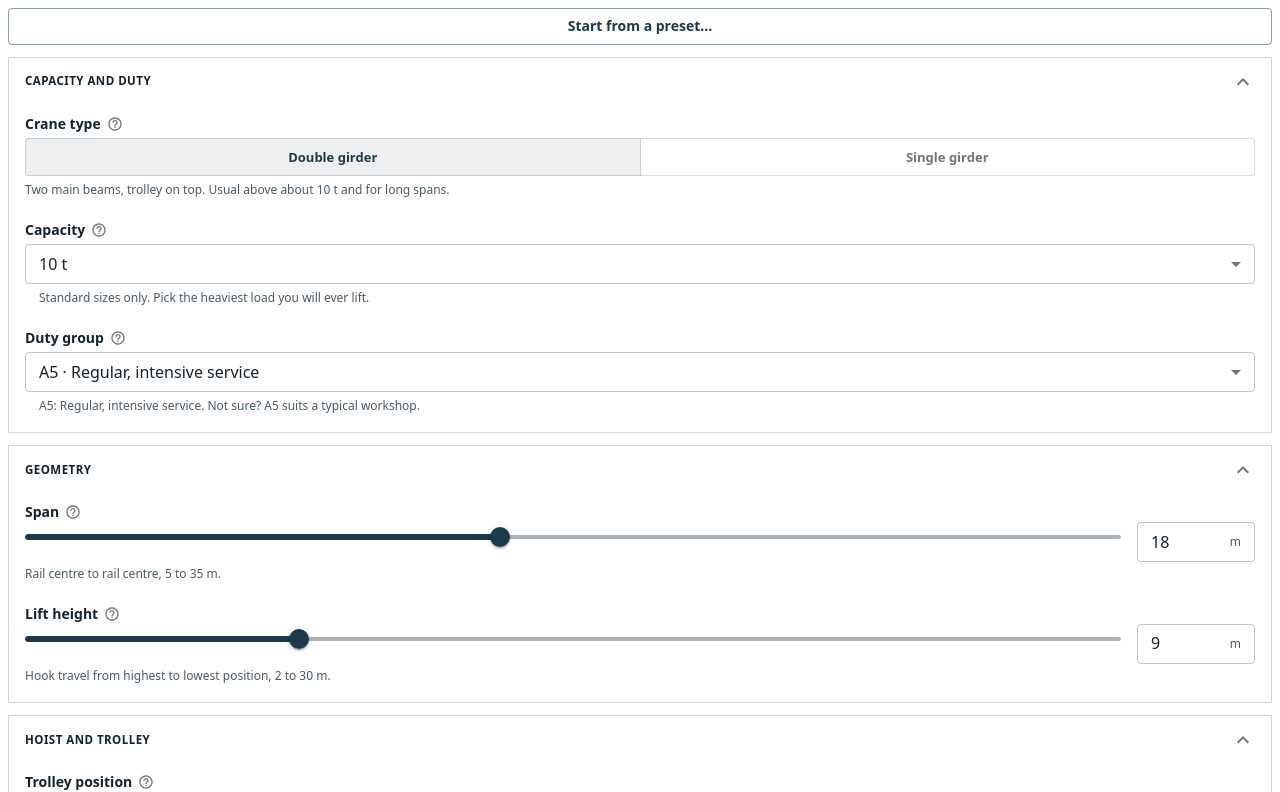
it: InputsPanel validation display › returns to the normal helper text once the value is valid again
Replace the text in the field labelled "Span" with "99": coordinates (1183, 542) [1137,522,1230,562]
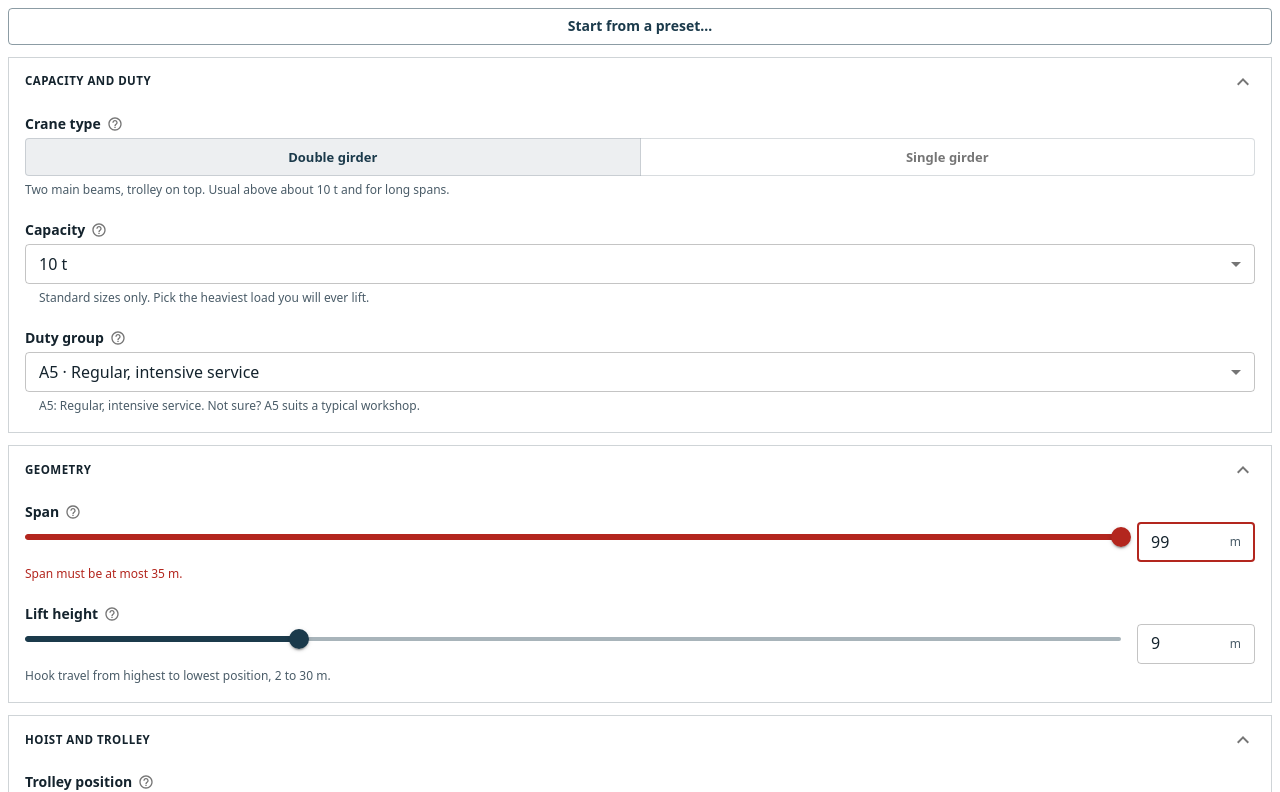
Check: the text "Span must be at most 35 m." is shown, box [25,565,182,582]
Replace the text in the field labelled "Span" with "24": coordinates (1183, 542) [1137,522,1230,562]
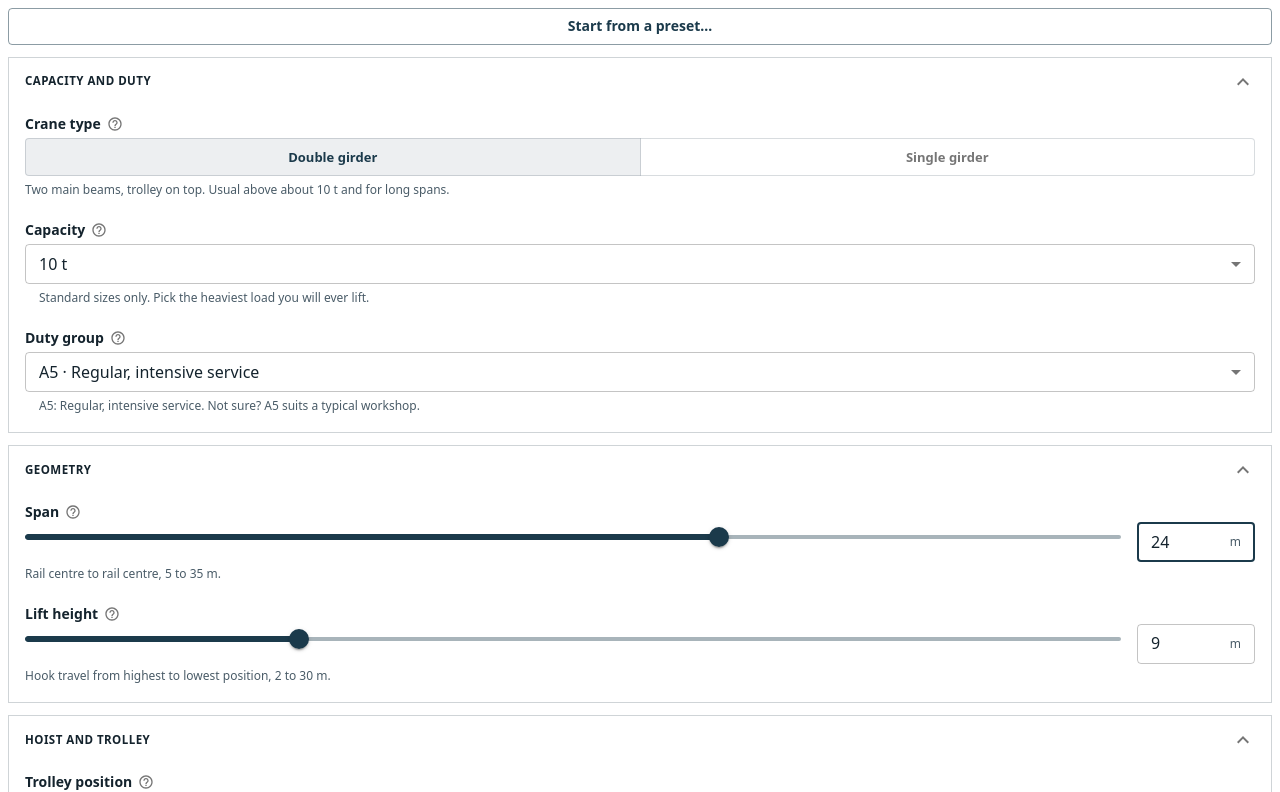
Check: the text "must be at most" is not shown
Check: the text "Rail centre to rail centre, 5 to 35 m." is shown, box [25,565,221,582]
